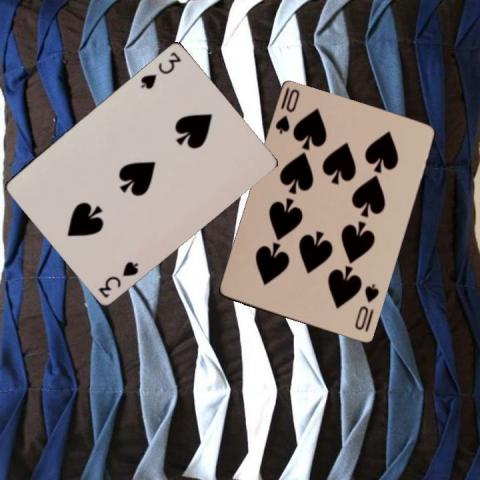10s: (352, 281, 381, 332), (273, 86, 301, 136)
3s: (137, 48, 183, 90), (95, 258, 140, 300)
